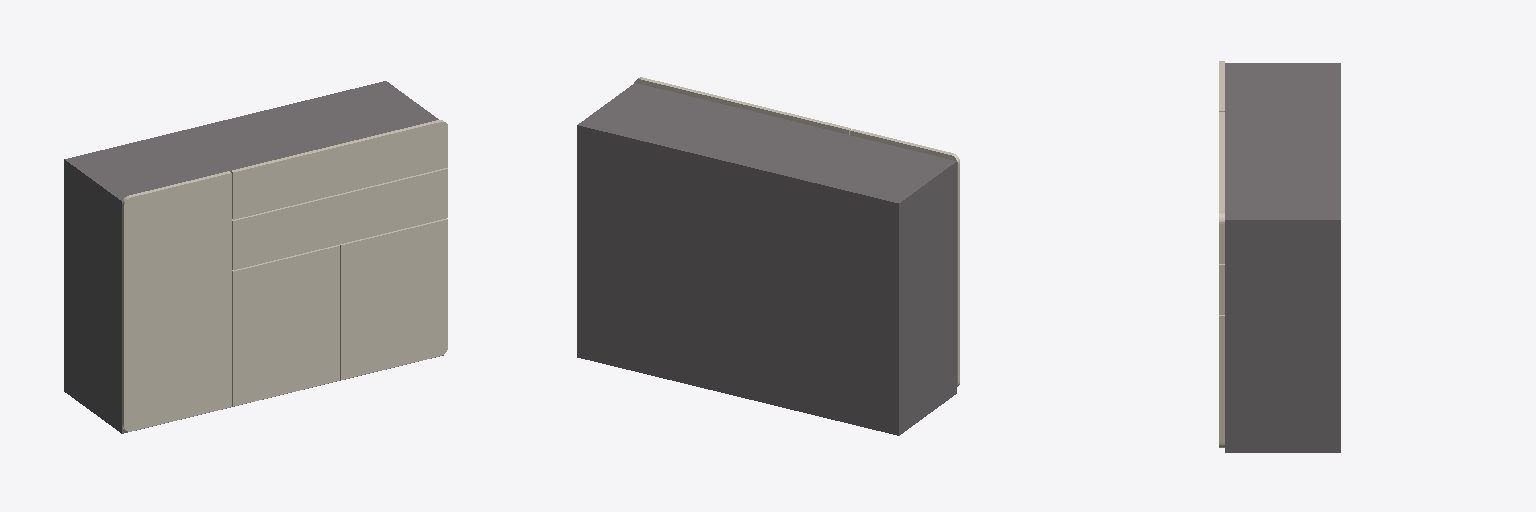
The model's file is 2pir_komoda_szeroka.obj.
3 renders of one model, left to right at view 1: azimuth 30°, elevation 25°; view 2: azimuth 150°, elevation 25°; view 3: azimuth 270°, elevation 25°, orthographic.
Visible parts, largest first — view 1: Rectangle10, Rectangle11; view 2: Rectangle11, Rectangle10; view 3: Rectangle11, Rectangle10.
Part boxes in pixels (left/top/right/bottom): Rectangle10: left=122, top=120, right=447, bottom=431; Rectangle11: left=64, top=81, right=443, bottom=433; Rectangle11: left=577, top=83, right=956, bottom=435; Rectangle10: left=634, top=77, right=959, bottom=386; Rectangle11: left=1225, top=63, right=1340, bottom=452; Rectangle10: left=1219, top=61, right=1224, bottom=447.
Size of the model in its own units: 145 by 101 by 46.74.